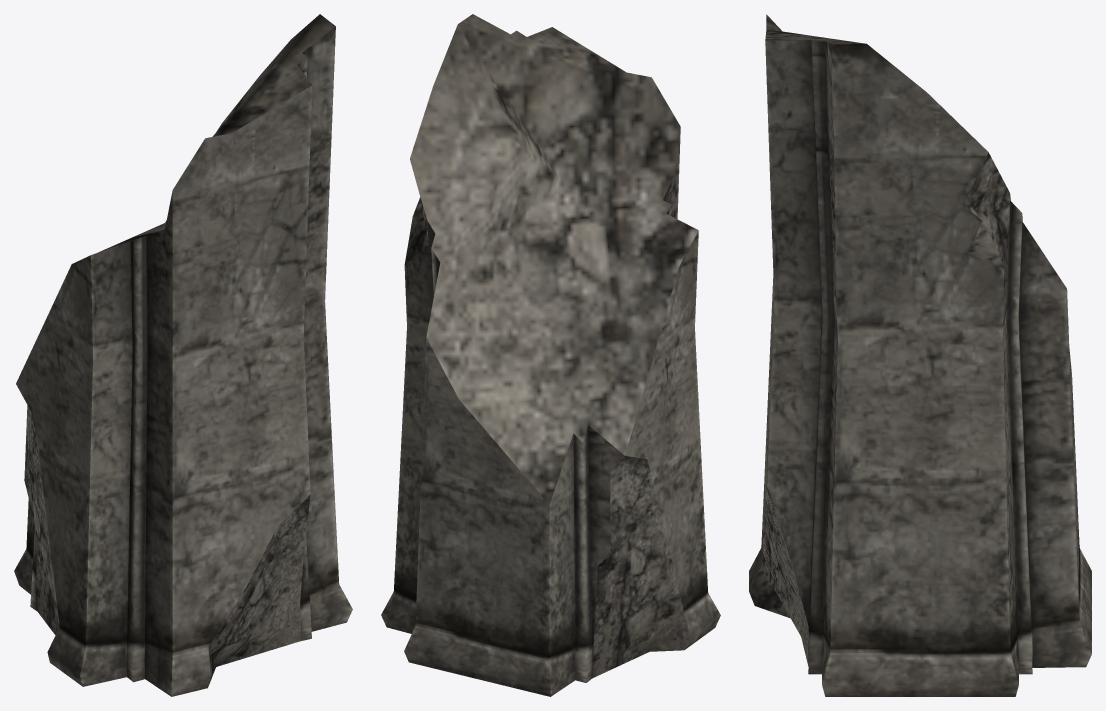
The model's file is Pillar1D.fbx.
3 renders of one model, left to right at view 1: azimuth 30°, elevation 25°; view 2: azimuth 150°, elevation 25°; view 3: azimuth 270°, elevation 25°, orthographic. The views are drawn at different scales.
Parts seen in each view (by area): view 1: polySurface56; view 2: polySurface56; view 3: polySurface56.
Boxes of the visible parts, box(x1,y1,x2,y2) form: polySurface56: box(14, 14, 352, 696); polySurface56: box(381, 14, 720, 696); polySurface56: box(749, 14, 1091, 696).
Bounding box in the file's own units: 2.41 × 5.03 × 2.41.
